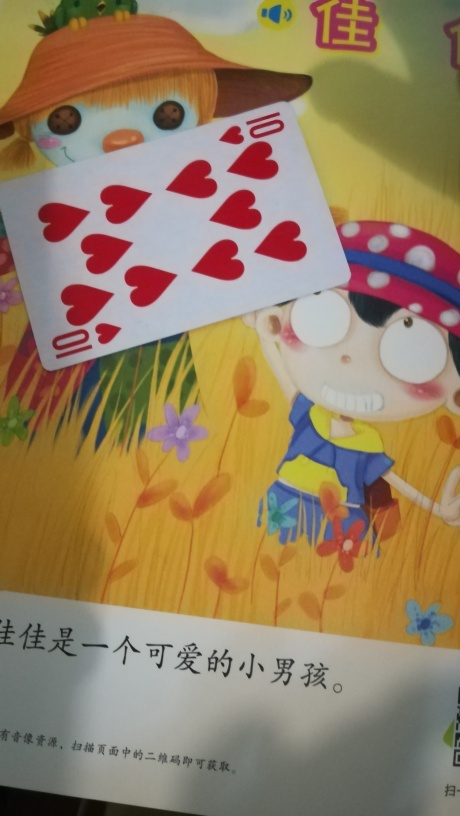hx 10: (2, 95, 351, 374)
